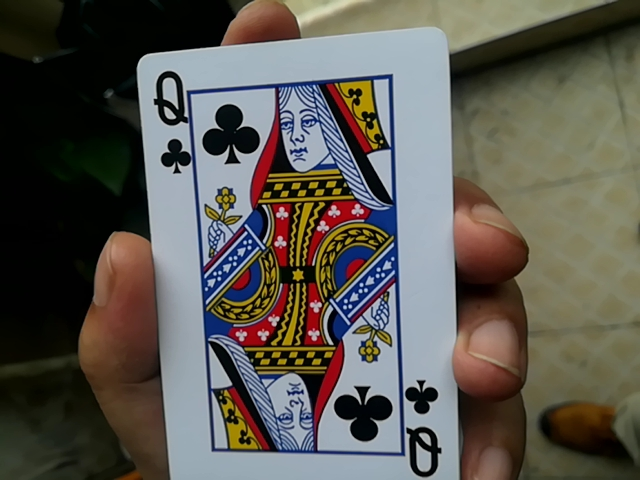mh q: (120, 28, 465, 477)
